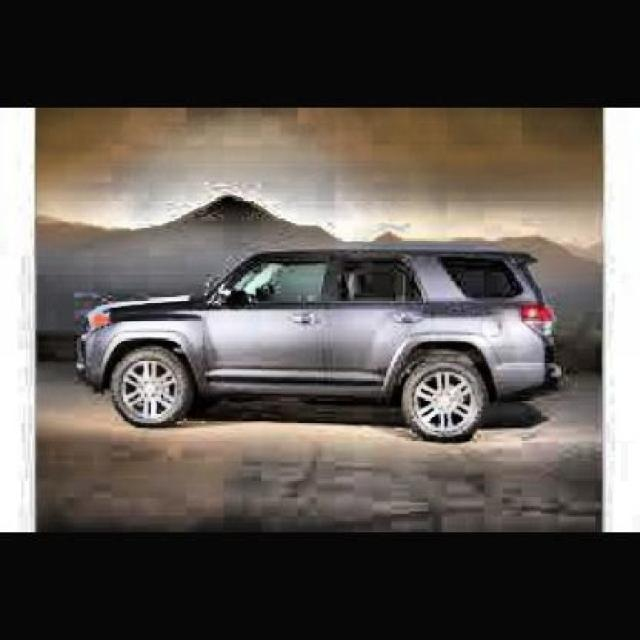black: (78, 248, 555, 430)
